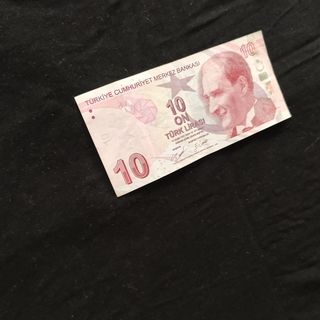10TLFront: (72, 28, 293, 198)
